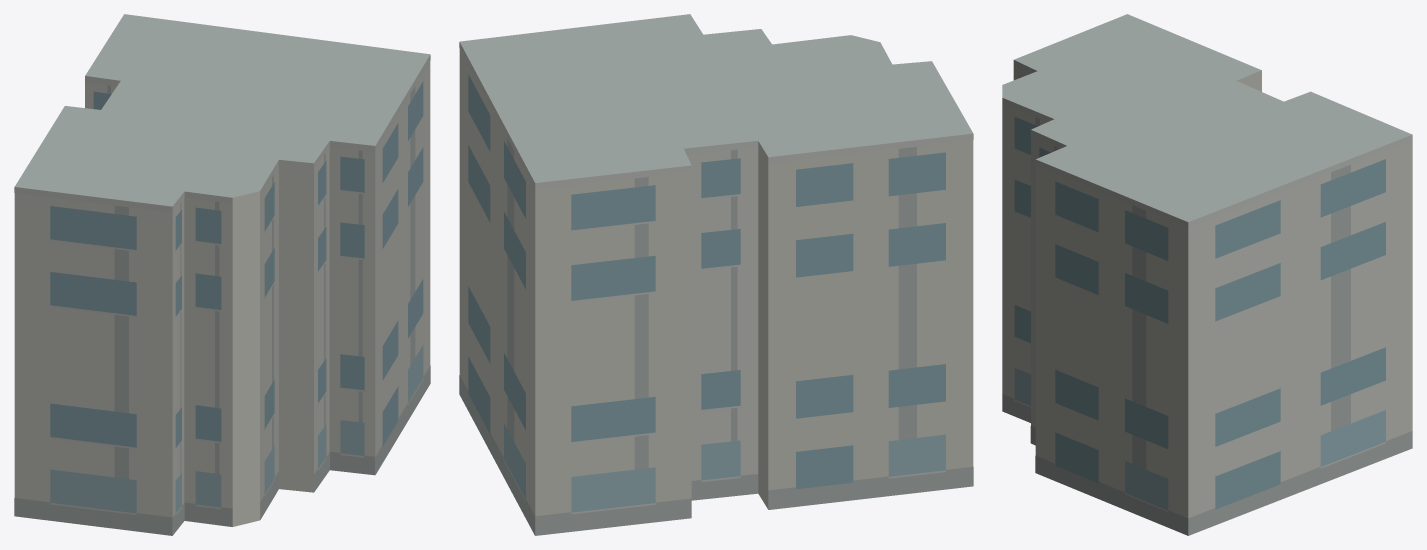
The model's file is survey-upis-32933862.glb.
3 views of the same model, side by side, from view 1: azimuth 30°, elevation 25°; view 2: azimuth 150°, elevation 25°; view 3: azimuth 270°, elevation 25° (orthographic). The views are drawn at different scales.
Visible parts, largest first — view 1: survey-upis-32933862.tmp; view 2: survey-upis-32933862.tmp; view 3: survey-upis-32933862.tmp.
Boxes of the visible parts, x1,y1,x2,y2 form: survey-upis-32933862.tmp: [14, 14, 430, 535]; survey-upis-32933862.tmp: [459, 14, 973, 535]; survey-upis-32933862.tmp: [1002, 14, 1412, 535].
Size of the model in its own units: 18.51 by 13 by 15.42.
